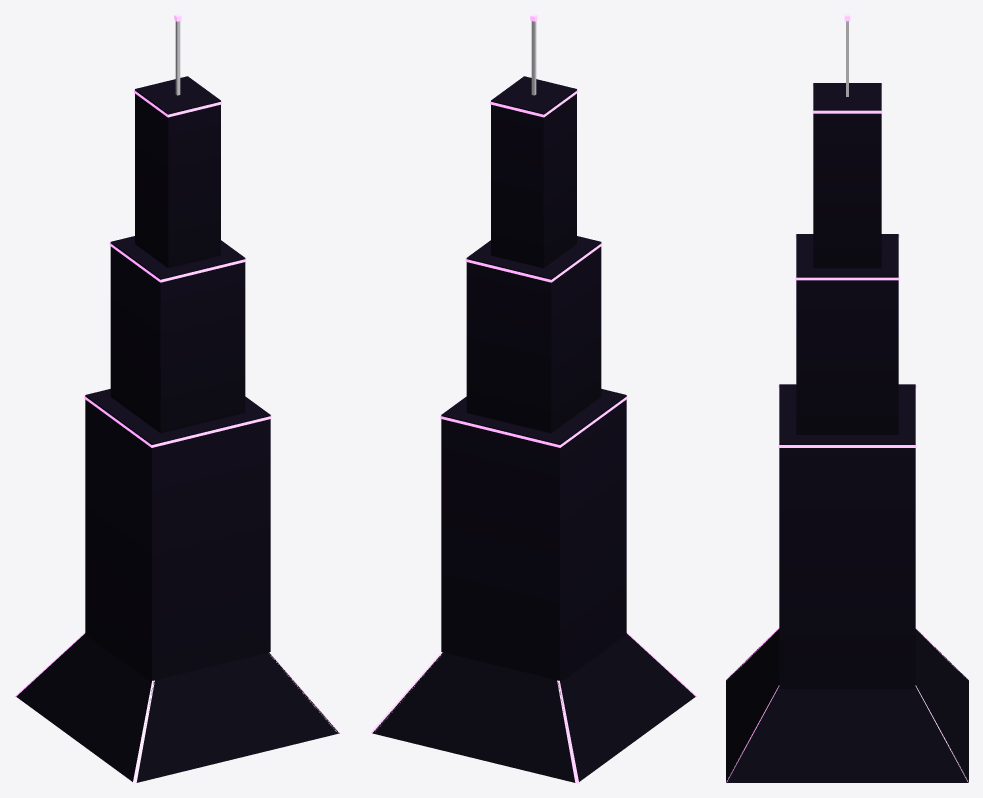
The model's file is props.glb.
The picture shows the model from 3 angles, left to right: view 1: azimuth 30°, elevation 25°; view 2: azimuth 150°, elevation 25°; view 3: azimuth 270°, elevation 25°; orthographic projection. The views are drawn at different scales.
Visible parts, largest first — view 1: tower_2, pyramid_0; view 2: tower_2, pyramid_0; view 3: tower_2, pyramid_0.
Part boxes in pixels (x1,y1,x2,y2): tower_2: (84,14,271,682); pyramid_0: (15,632,341,783); tower_2: (440,14,627,682); pyramid_0: (370,632,696,783); tower_2: (778,14,916,688); pyramid_0: (726,627,968,783).
Size of the model in its own units: 91.8 by 293 by 90.
